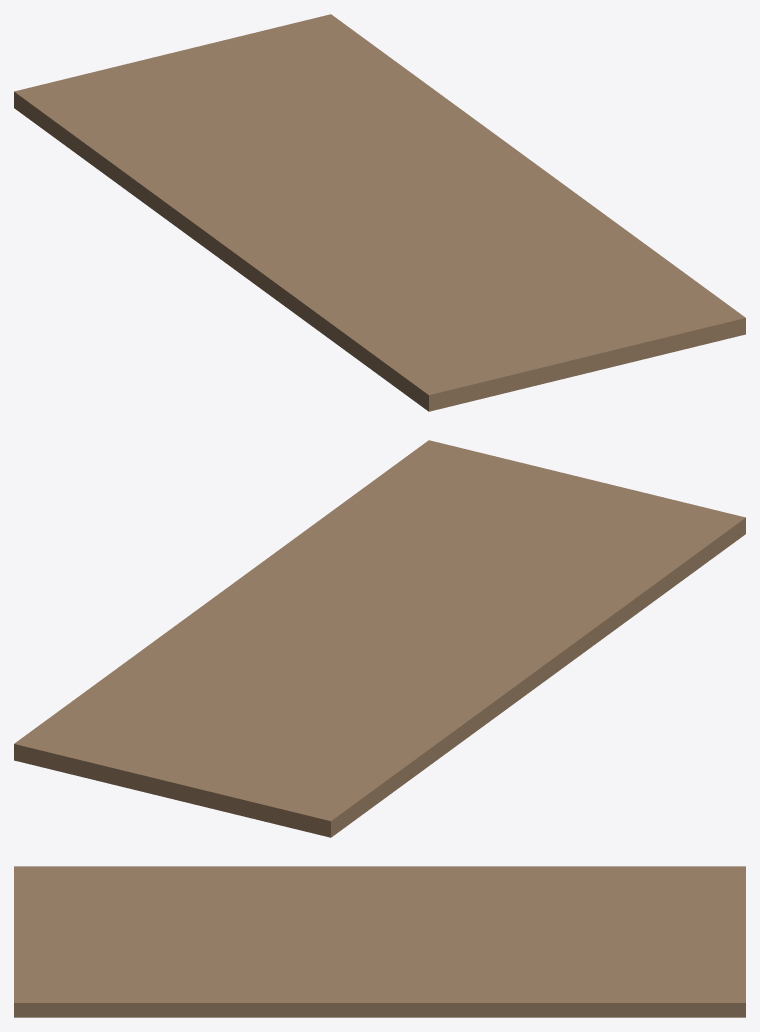
Rendered from floor7x3.fbx.
3 renders of one model, top to bottom at view 1: azimuth 30°, elevation 25°; view 2: azimuth 150°, elevation 25°; view 3: azimuth 270°, elevation 25°, orthographic. The views are drawn at different scales.
Visible parts, largest first — view 1: floor; view 2: floor; view 3: floor.
Boxes of the visible parts, <box> form: floor: <box>14,14,745,411</box>; floor: <box>14,440,745,837</box>; floor: <box>14,866,745,1017</box>.
Bounding box in the file's own units: 6 × 0.3 × 13.6.
